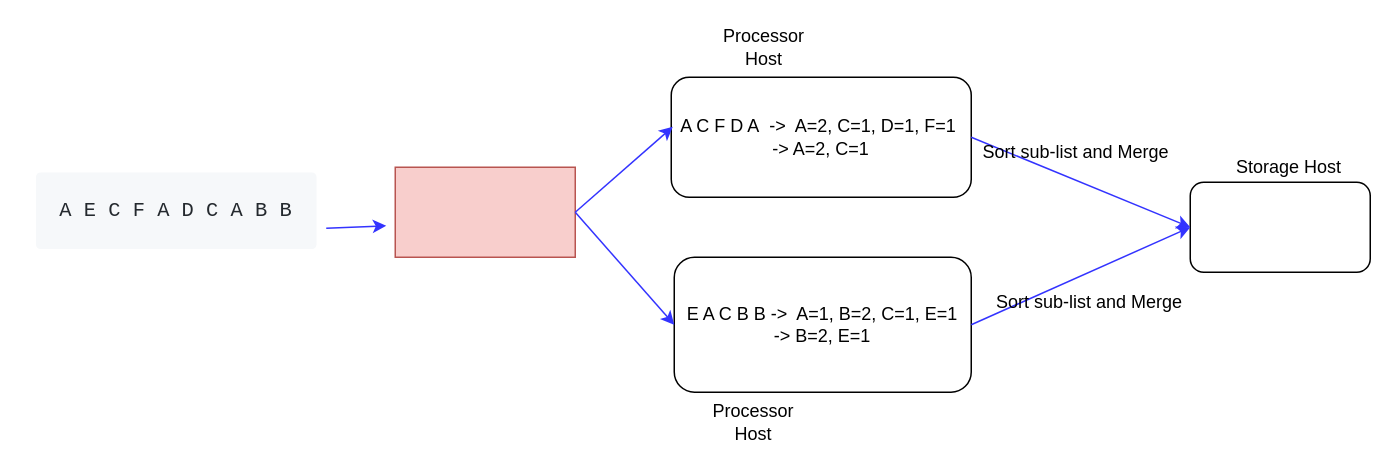
Some shapes in this 1397 by 470 pixel diagram are drawn without their labels. The shapes that lost their labels are listed below. From the top down, each one's centre as x and y in pixels, then its label:
point 484,211: Data Partioner
point 1279,226: Merge Sorted lists
